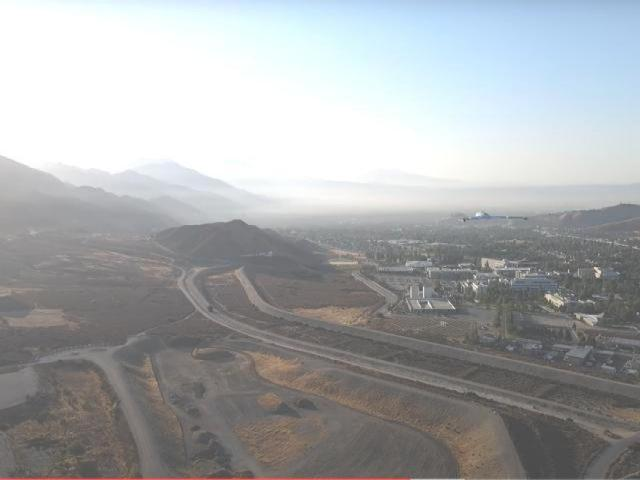iha: (456, 200, 532, 226)
